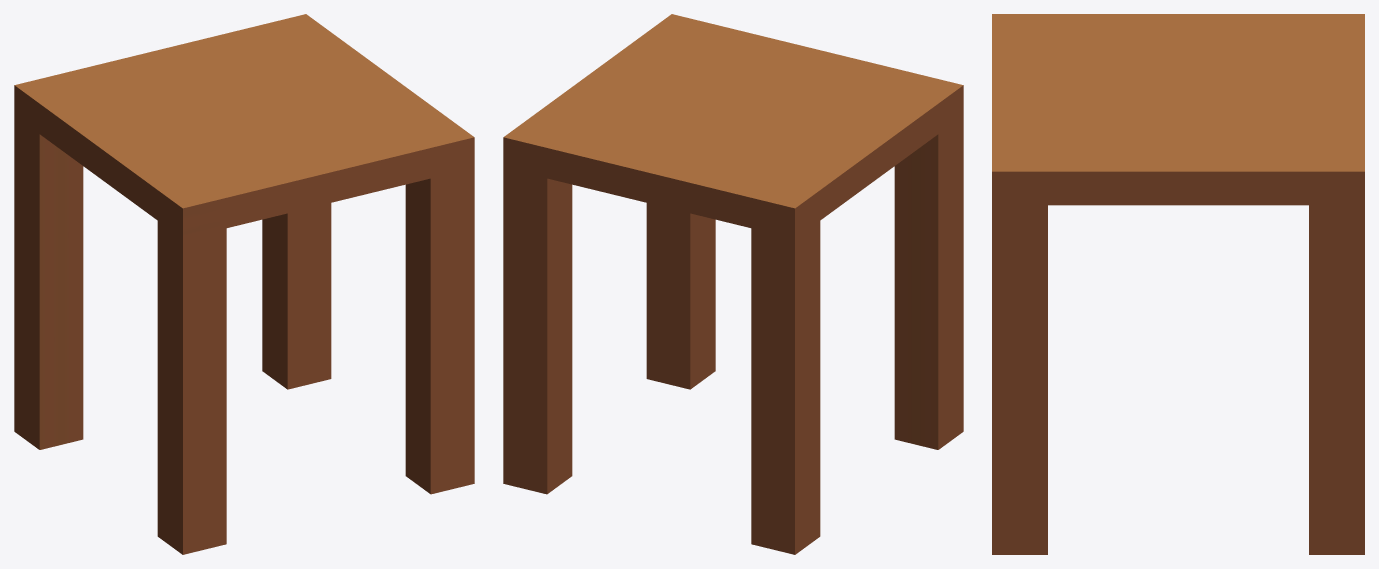
The model's file is Platform.glb.
3 views of the same model, side by side, from view 1: azimuth 30°, elevation 25°; view 2: azimuth 150°, elevation 25°; view 3: azimuth 270°, elevation 25° (orthographic). The views are drawn at different scales.
Visible parts, largest first — view 1: Cube; view 2: Cube; view 3: Cube.
Part boxes in pixels (x1,y1,x2,y2): Cube: (14, 14, 474, 554); Cube: (503, 14, 963, 554); Cube: (992, 14, 1364, 554).
Size of the model in its own units: 2 by 2.27 by 2.
Materials: 1 (1 with a texture image).
